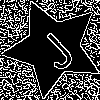J: (28, 23, 78, 74)
